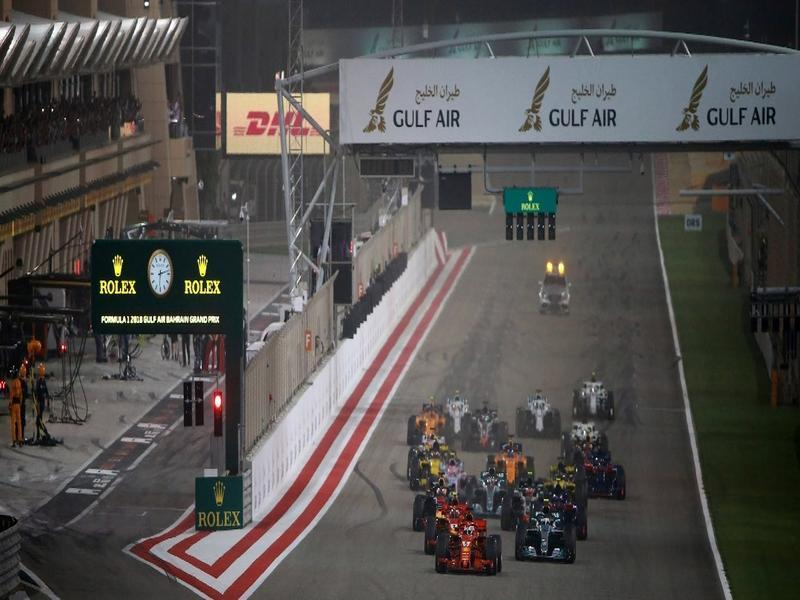f1: (567, 449, 642, 501), (430, 525, 498, 578), (511, 520, 584, 569), (507, 385, 569, 441), (487, 437, 541, 491), (461, 395, 505, 455), (567, 372, 620, 417), (399, 401, 455, 439)
